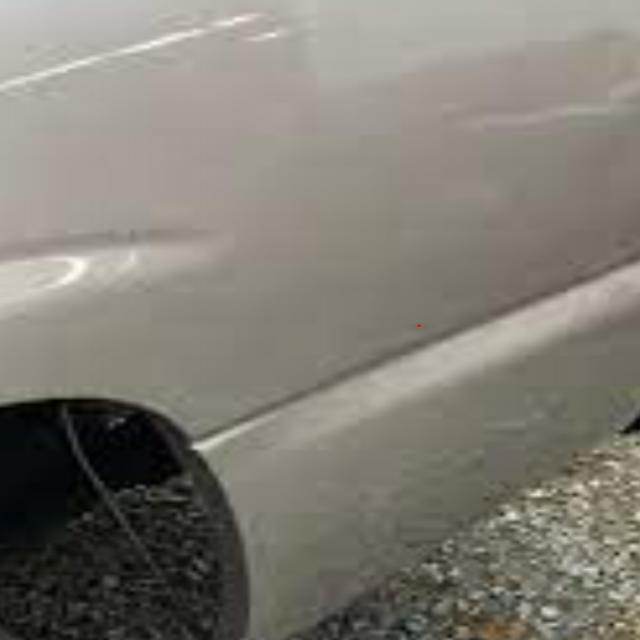dents: (4, 200, 214, 352)
